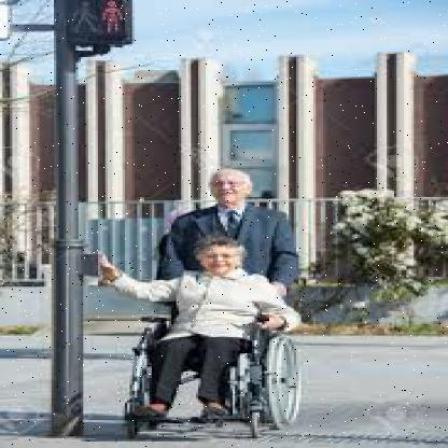silver: (158, 168, 300, 299)
wheel: (98, 238, 300, 440)
